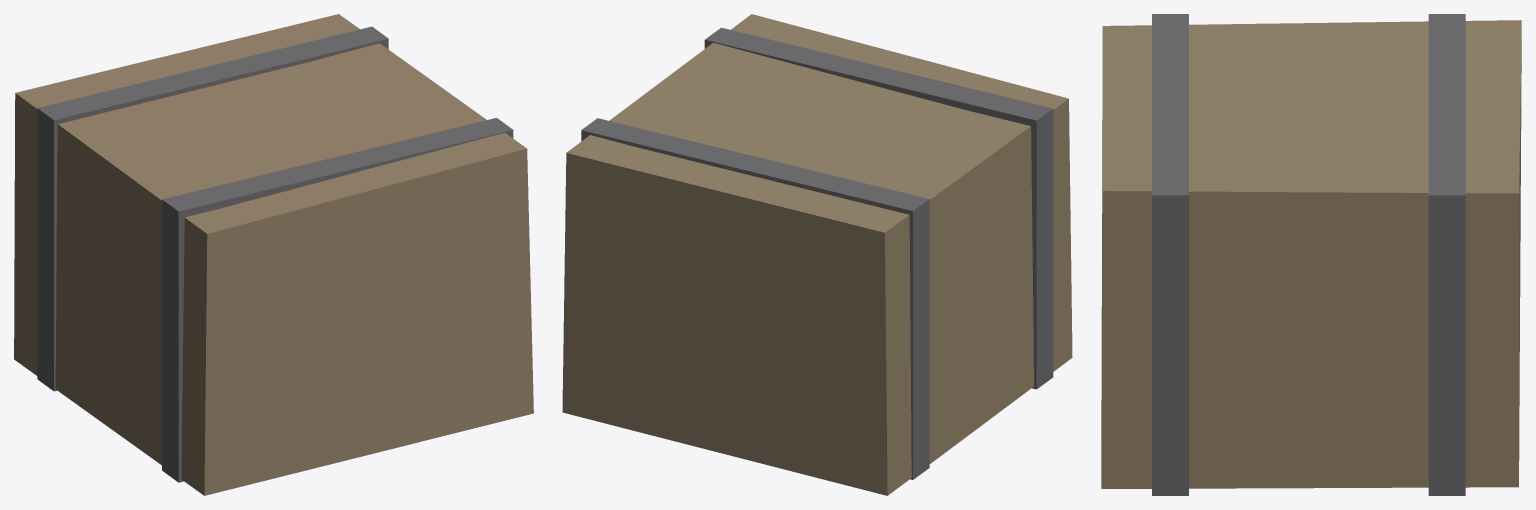
Rendered from example_crate.glb.
3 views of the same model, side by side, from view 1: azimuth 30°, elevation 25°; view 2: azimuth 150°, elevation 25°; view 3: azimuth 270°, elevation 25° (orthographic). The views are drawn at different scales.
Parts seen in each view (by area): view 1: example_crate; view 2: example_crate; view 3: example_crate.
Boxes of the visible parts, x1=… form: example_crate: x1=14, y1=14, x2=533, y2=495; example_crate: x1=562, y1=14, x2=1072, y2=495; example_crate: x1=1101, y1=14, x2=1521, y2=495.
Size of the model in its own units: 0.93 by 0.72 by 0.9125.
